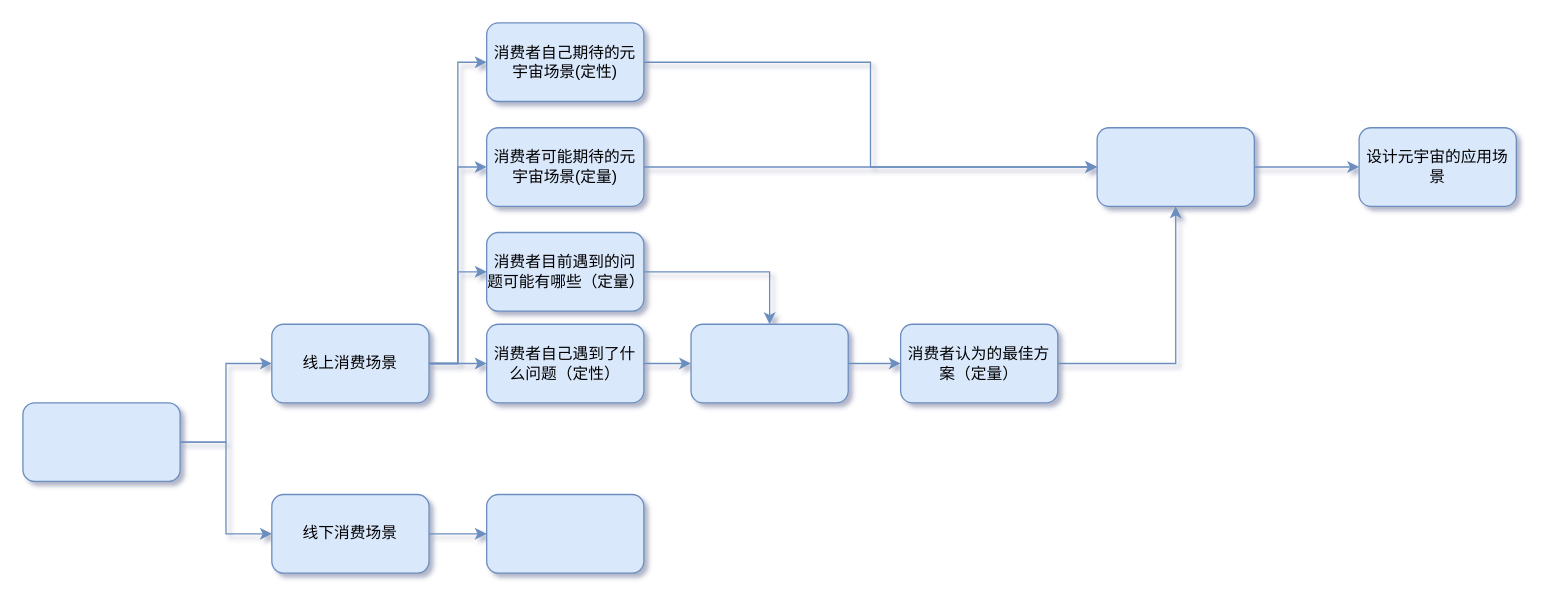
Image size: 1547x604. Some labels were removed from this diagram. Each missing label, with the centre of its shape:
。。。同上: the point at 564,533
借助这些问题设计解决方案: the point at 769,363
归纳、整理问题并进行设计: the point at 1175,166
调查方案: the point at 101,441
